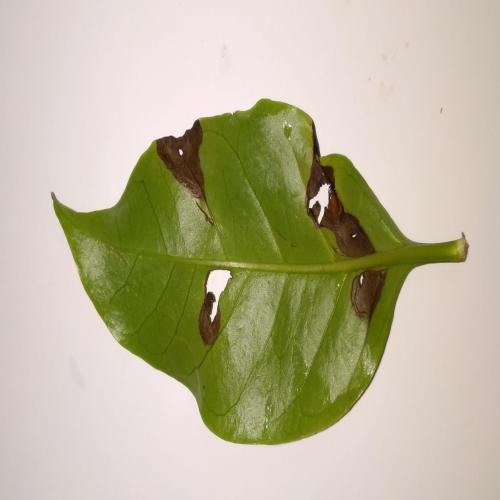miner: (156, 120, 206, 202)
